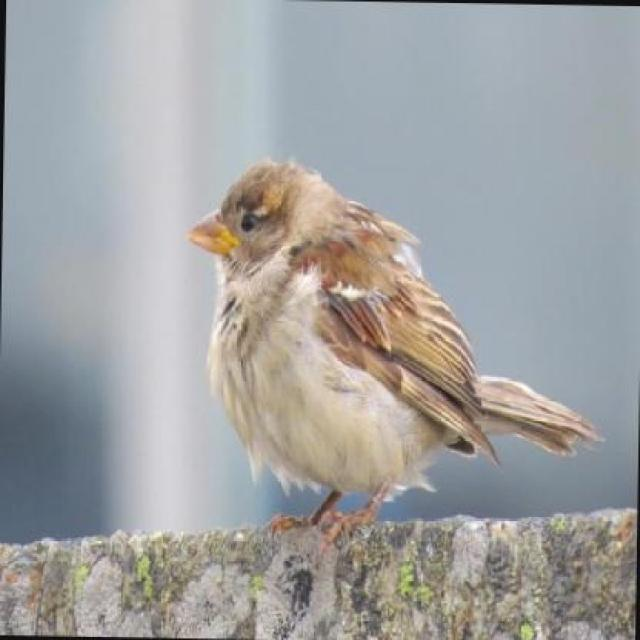Bird: (175, 145, 616, 552)
